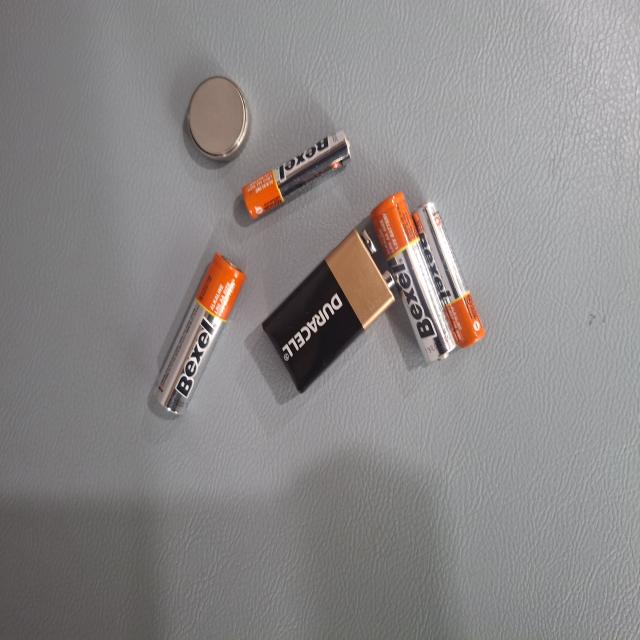9V: (168, 325, 296, 502)
AA: (189, 526, 311, 640), (146, 245, 273, 350)
AAA: (152, 206, 261, 304), (98, 386, 162, 525)
COIN: (56, 521, 121, 605)
